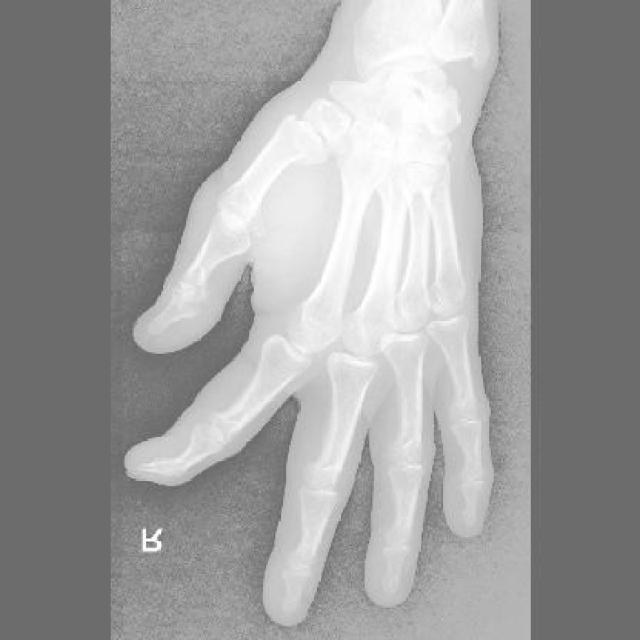Fracture: (274, 114, 311, 167)
